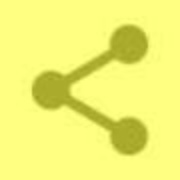ImgButton: (1, 1, 179, 179)
